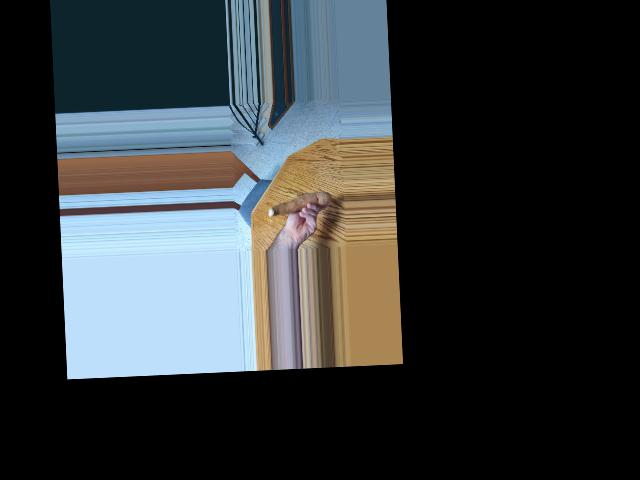sweet_potato: (270, 188, 329, 219)
